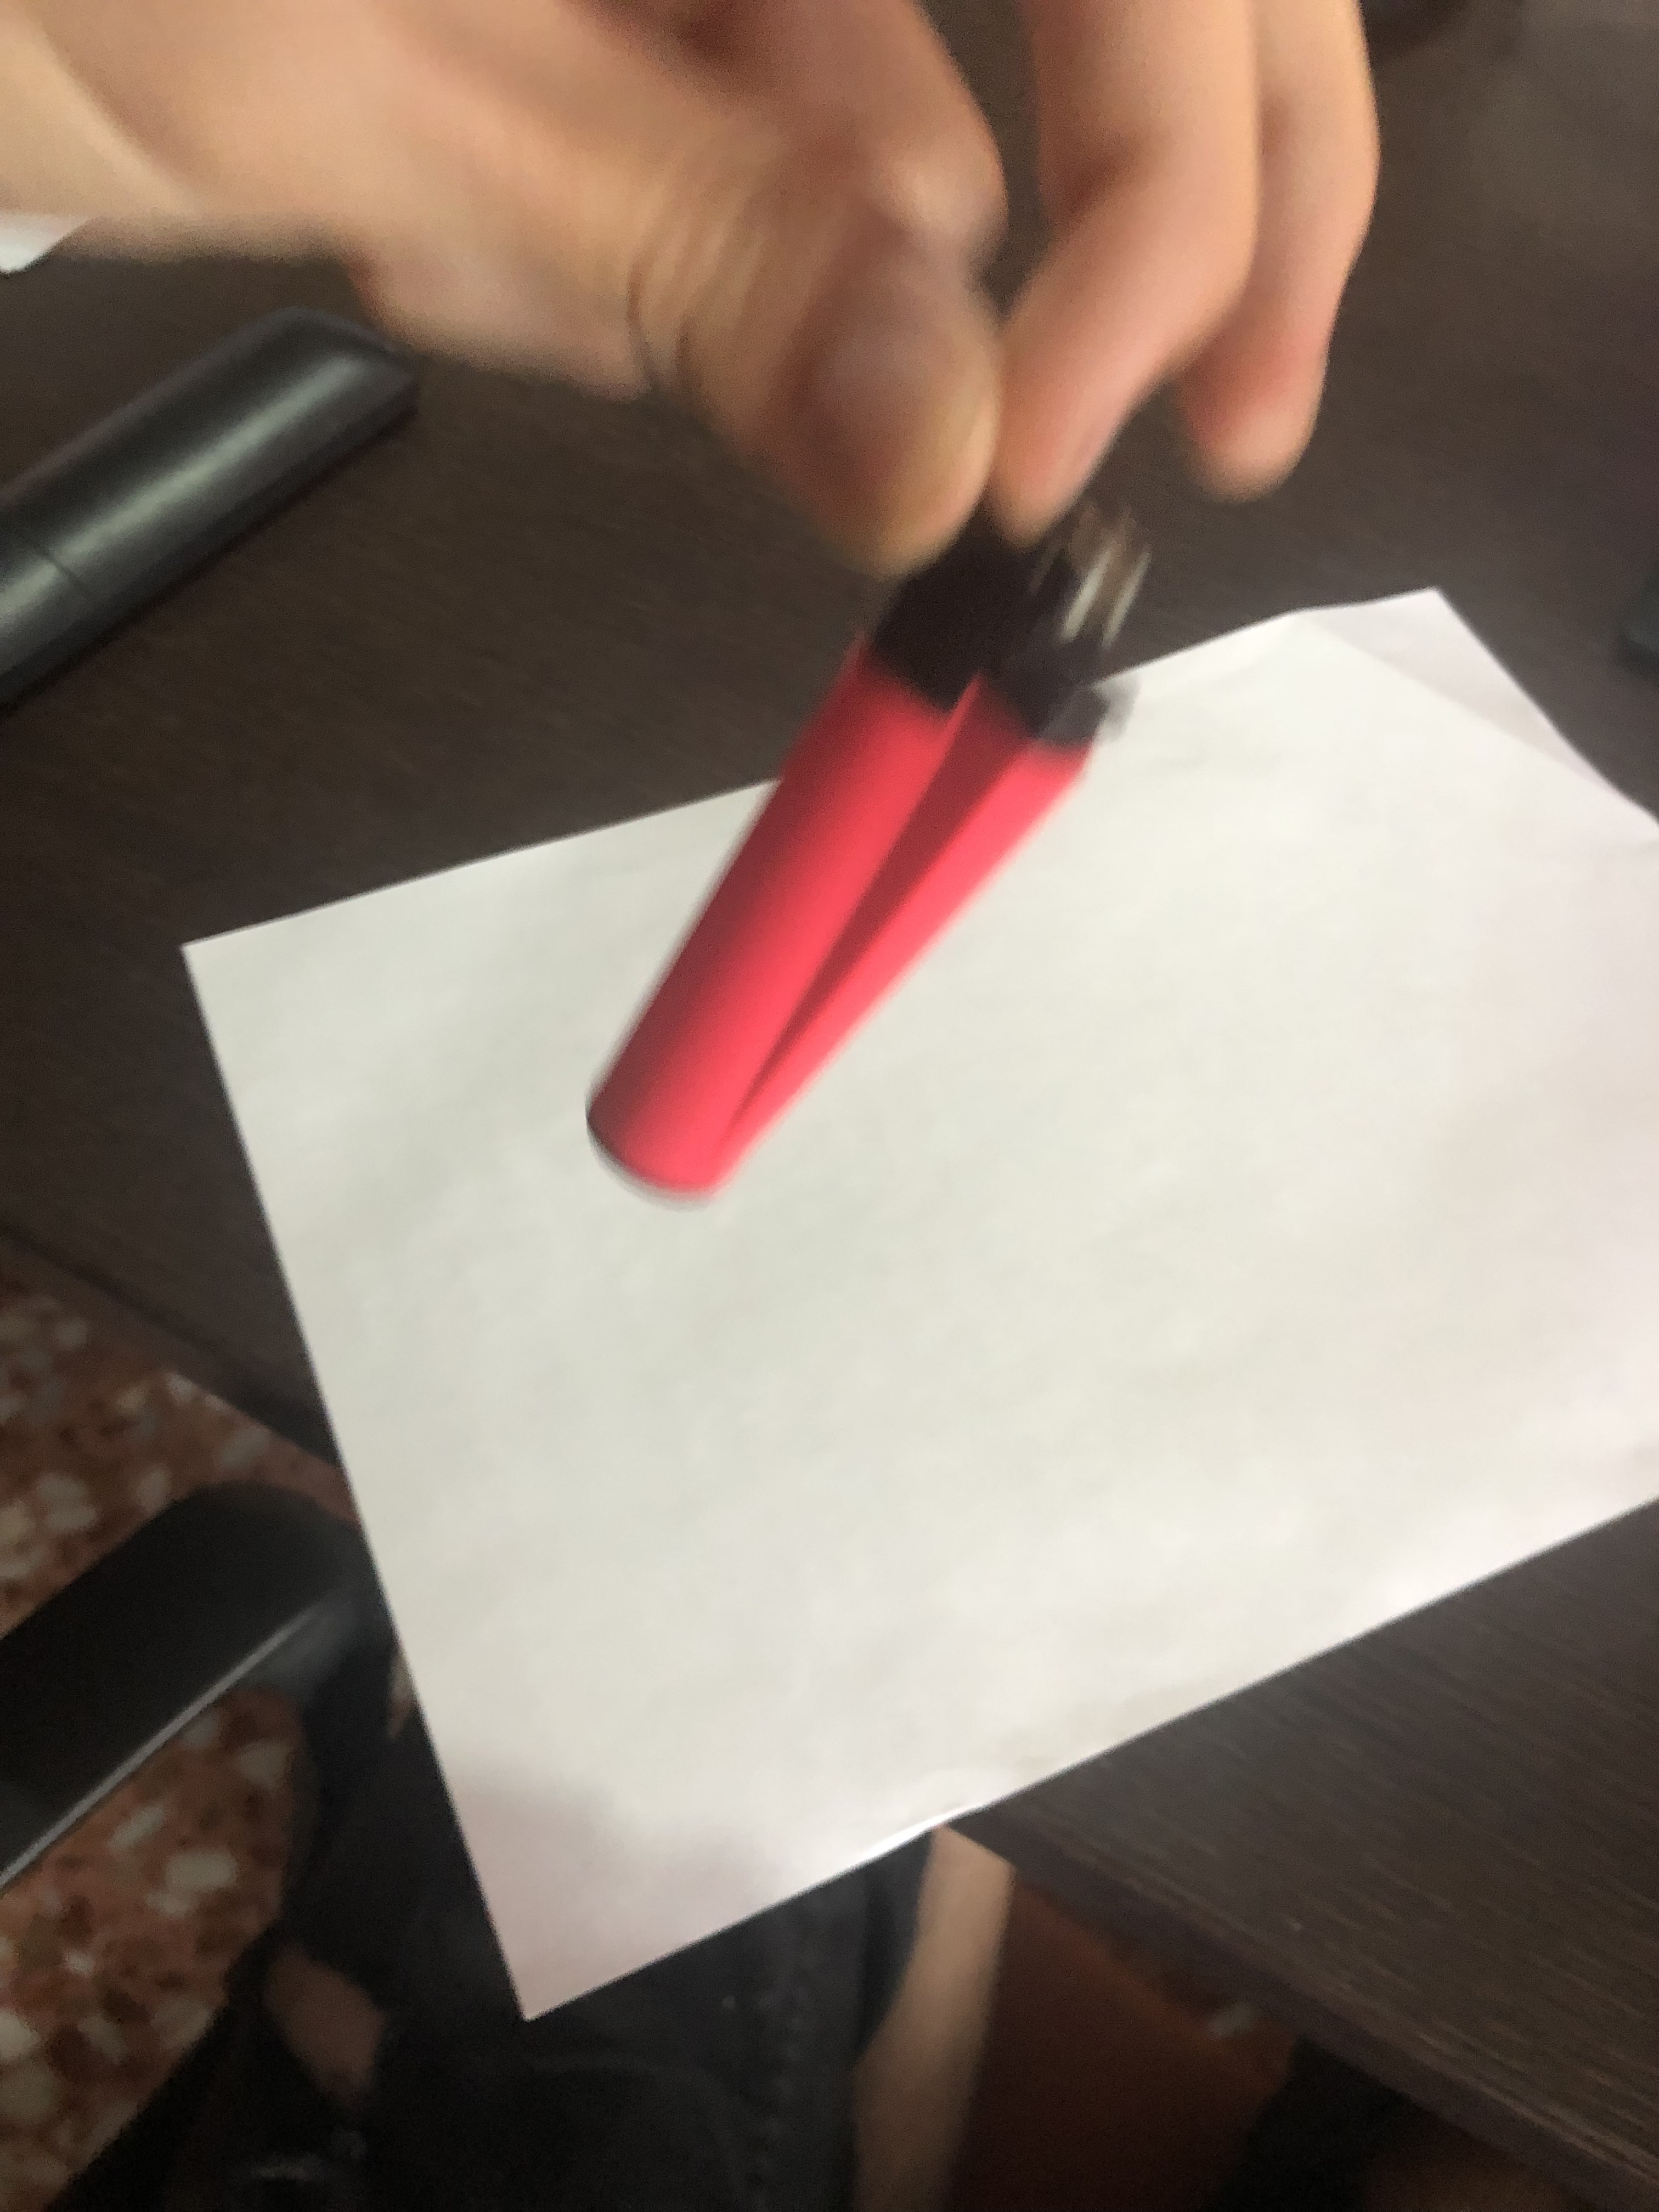Mechero: (575, 503, 1152, 1211)
